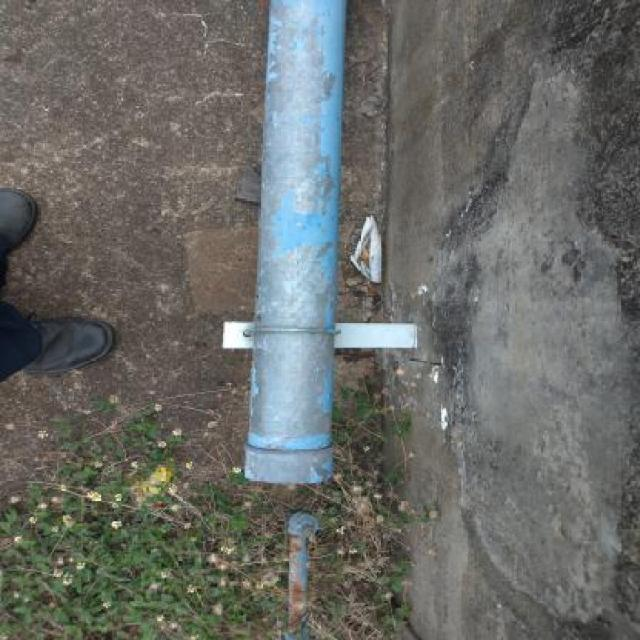gas: (241, 0, 342, 480)
